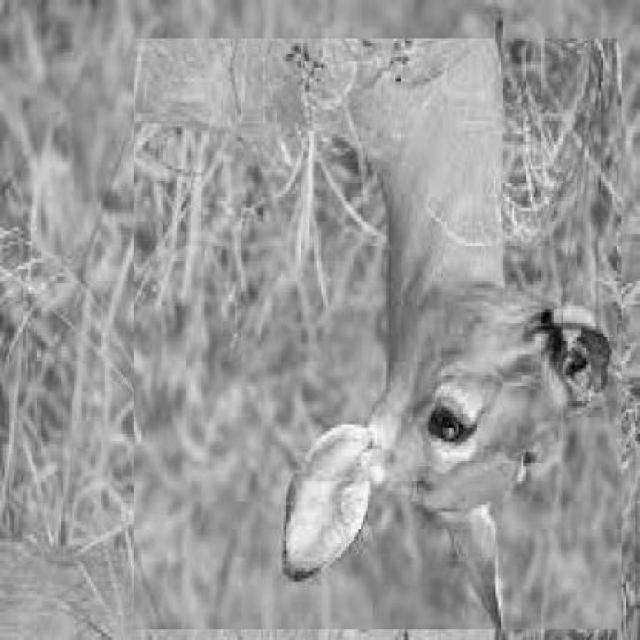Deer: (133, 38, 622, 630)
